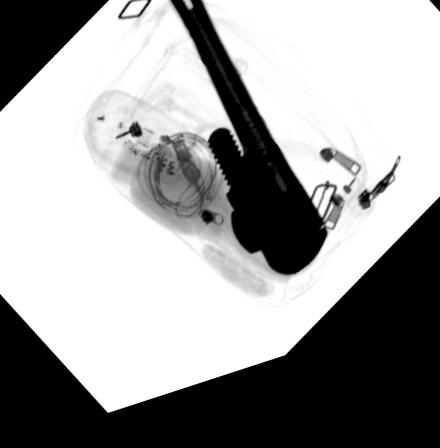Wrench: (164, 0, 329, 296)
